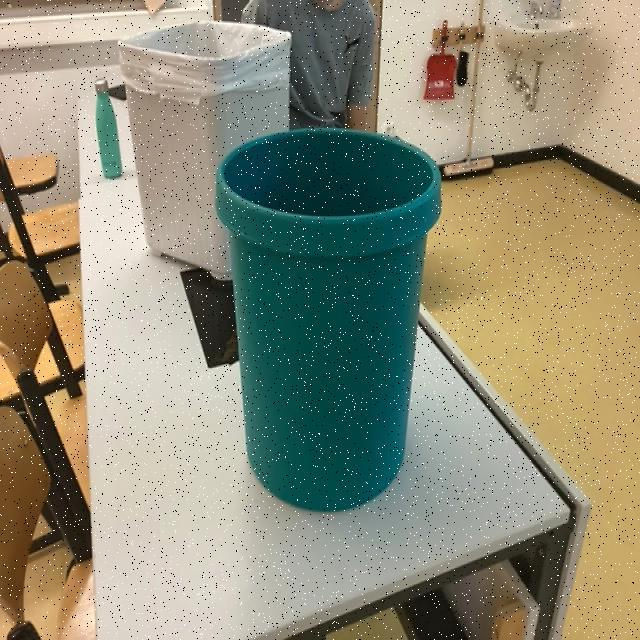garbage container: (206, 110, 452, 522), (111, 12, 303, 286)
